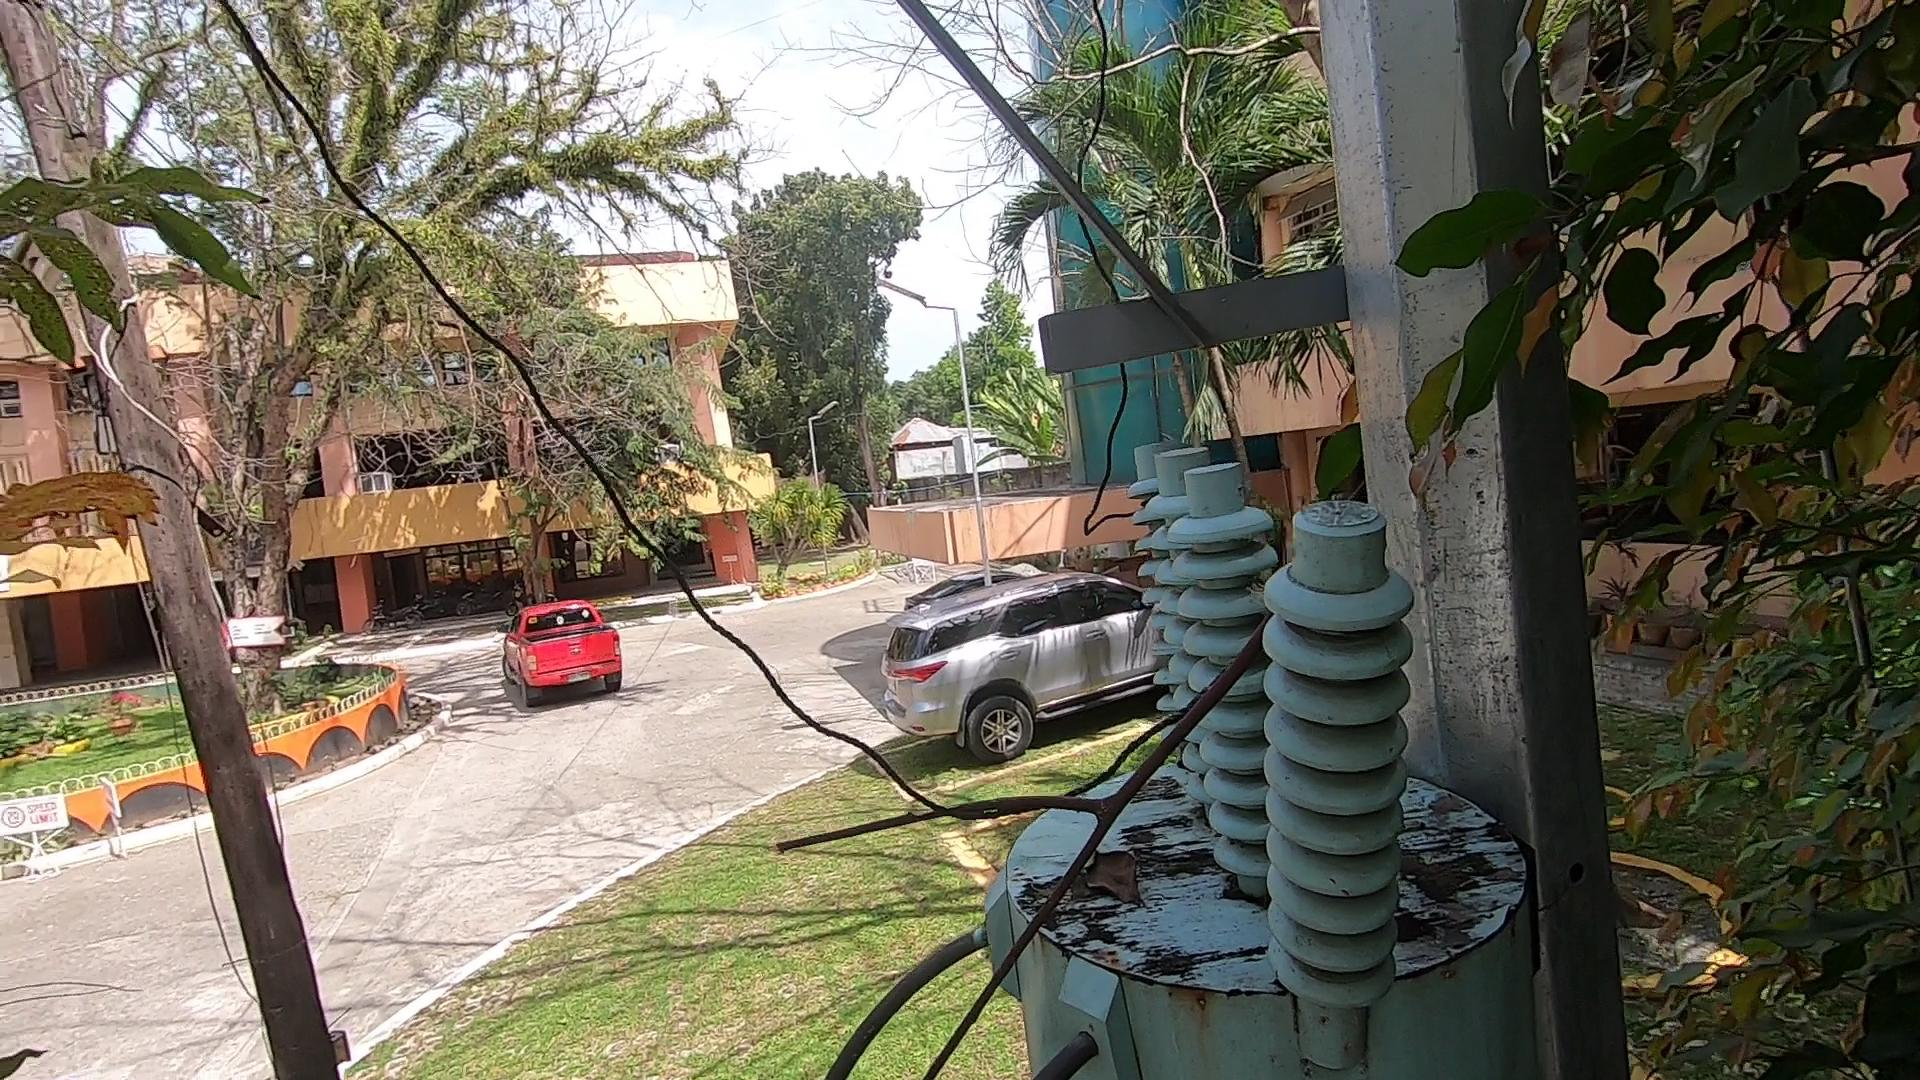leaf: (1060, 828, 1145, 920)
tree branch: (745, 584, 1294, 1080)
